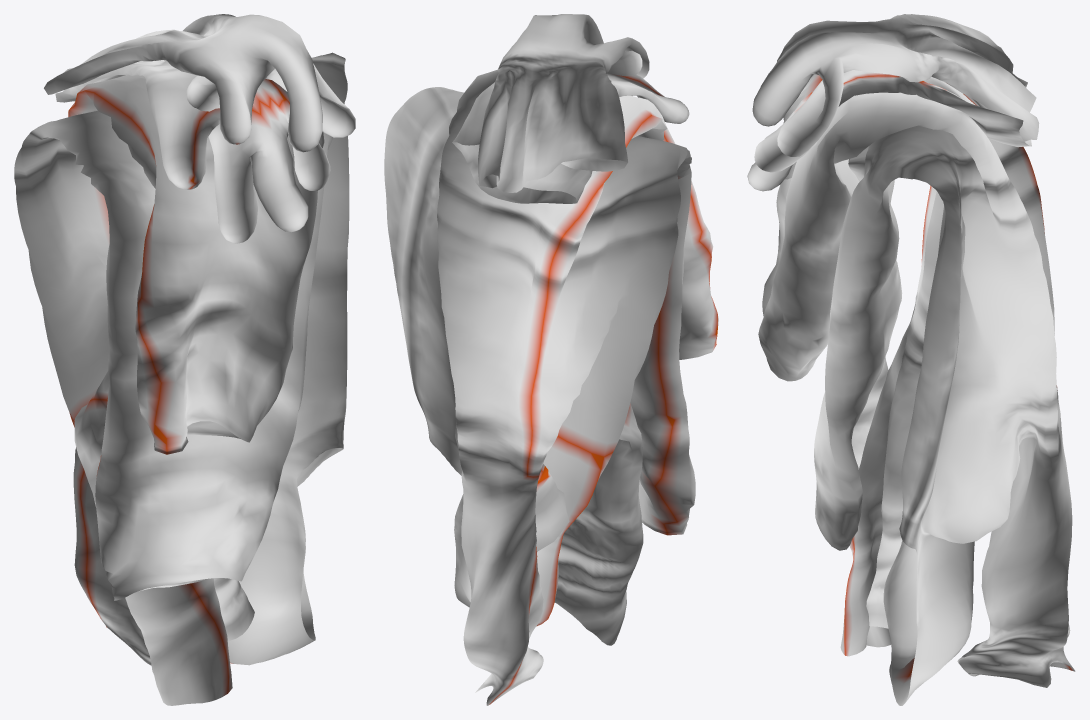
File: EmployeeBelongings_Draped.fbx
3 renders of one model, left to right at view 1: azimuth 30°, elevation 25°; view 2: azimuth 150°, elevation 25°; view 3: azimuth 270°, elevation 25°, orthographic. The views are drawn at different scales.
Parts seen in each view (by area): view 1: EmployeeBelongings, Gloves; view 2: EmployeeBelongings, Gloves; view 3: EmployeeBelongings, Gloves.
Boxes of the visible parts, x1,y1,x2,y2 form: EmployeeBelongings: (14, 52, 349, 705); Gloves: (44, 14, 355, 243); EmployeeBelongings: (384, 69, 718, 705); Gloves: (452, 14, 689, 203); EmployeeBelongings: (758, 92, 1075, 705); Gloves: (747, 14, 1039, 191).
Bounding box in the file's own units: 50.42 × 99.15 × 44.78.
